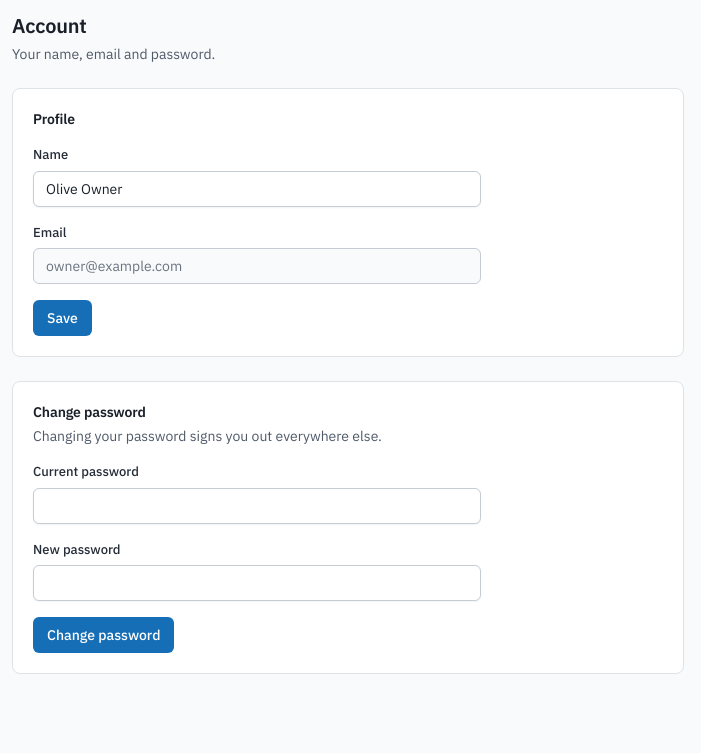
AccountPage › saves a new name and updates the cached account
Replace the text in the field labelled "Name" with "Olive Renamed" at (257, 188), box top-left (33, 170), bottom-right (481, 206)
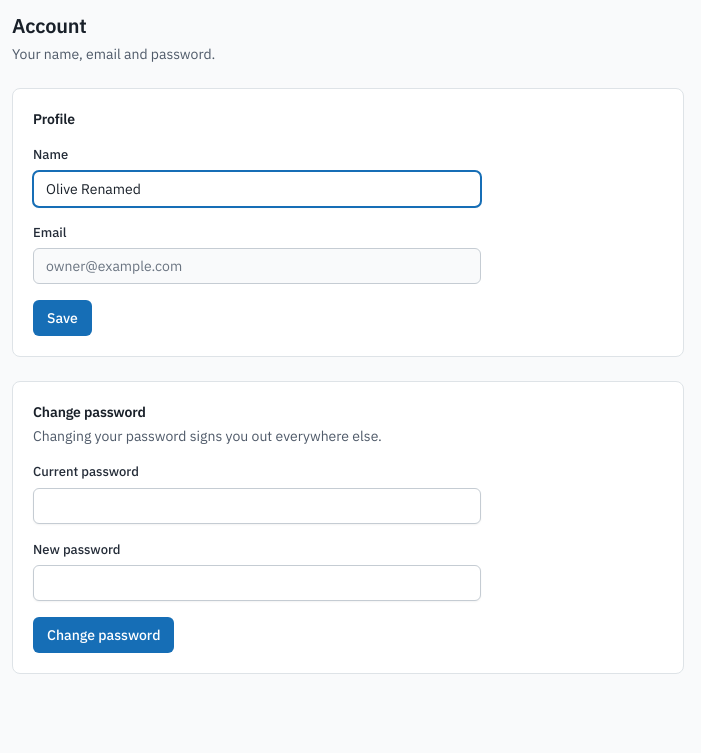
Click the button "Save" at (62, 318), box top-left (33, 300), bottom-right (92, 336)
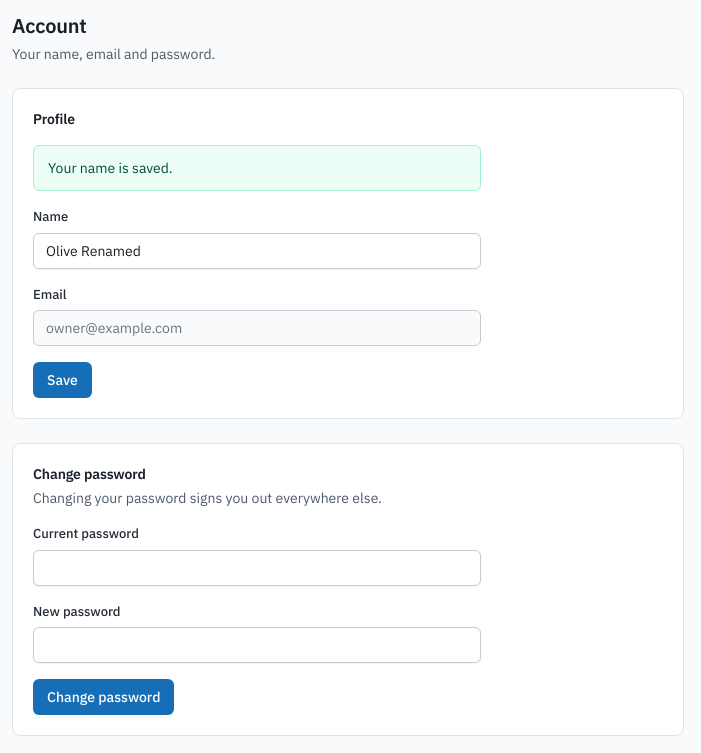
Check: the message reads "Your name is saved.", box top-left (48, 159), bottom-right (173, 177)
